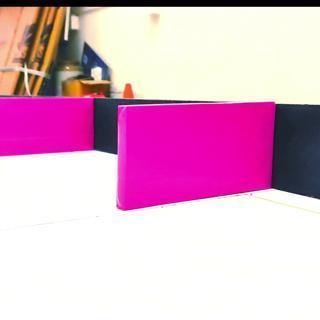xparking: (120, 104, 274, 192), (1, 97, 95, 152)
